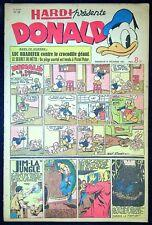paper: (4, 3, 150, 222)
